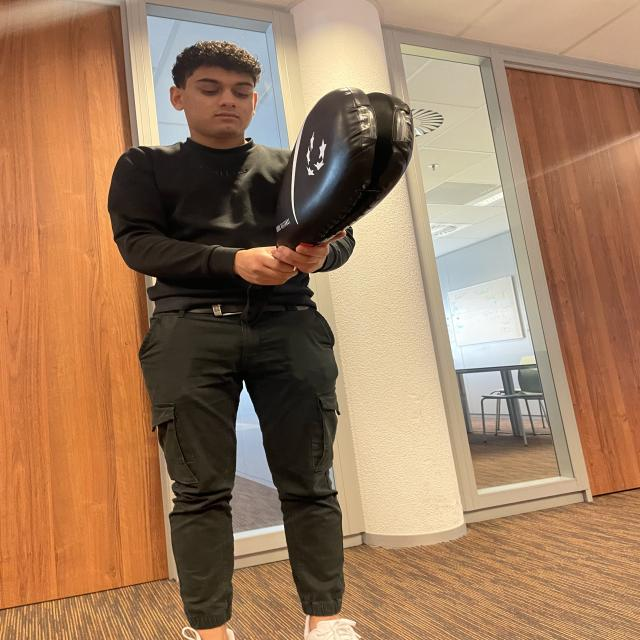paddle: (289, 86, 410, 239)
